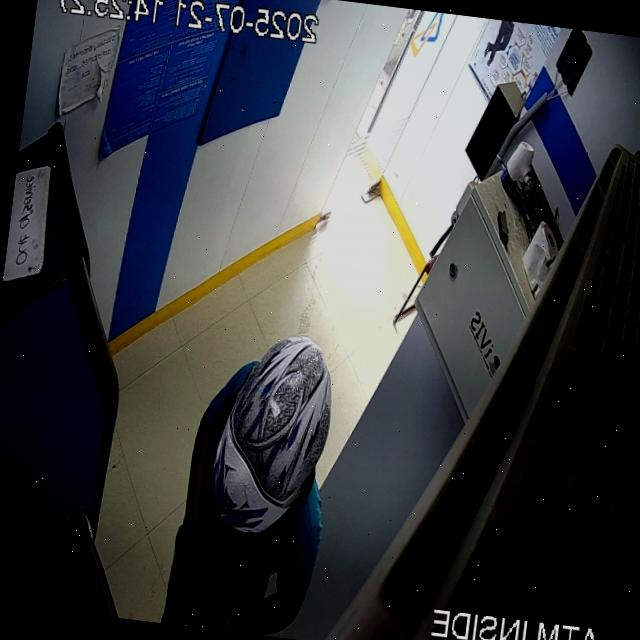helmet: (214, 336, 332, 532)
